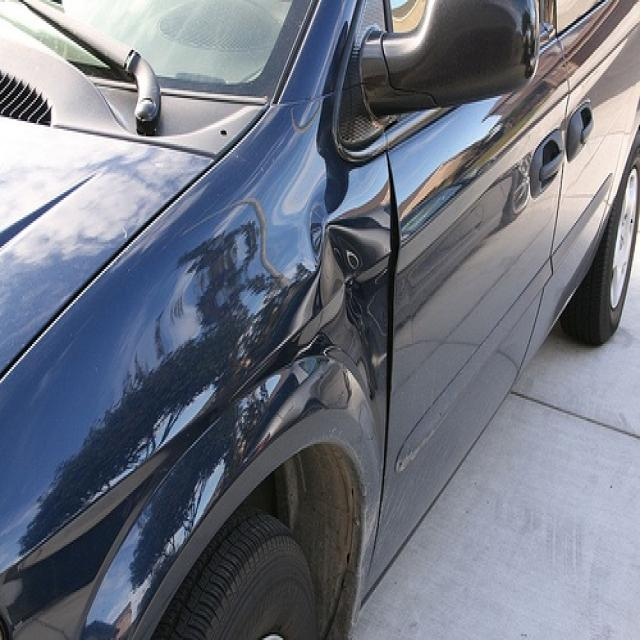car: (3, 4, 636, 634)
